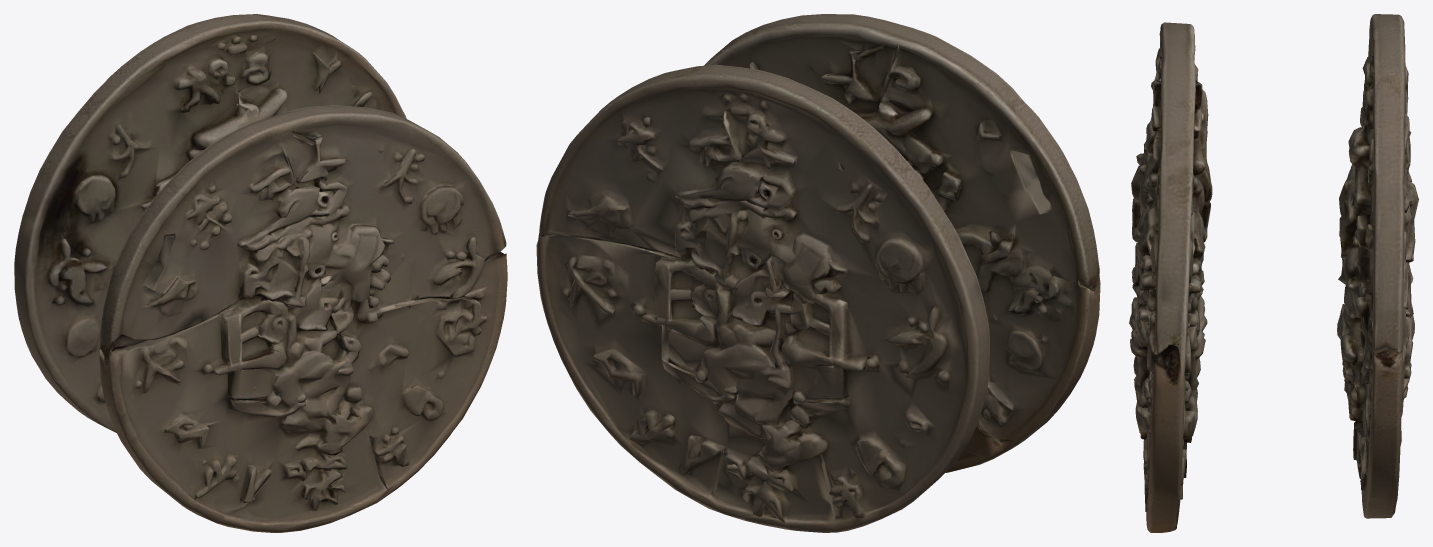
The model's file is silver-dollar.glb.
3 renders of one model, left to right at view 1: azimuth 30°, elevation 25°; view 2: azimuth 150°, elevation 25°; view 3: azimuth 270°, elevation 25°, orthographic. The views are drawn at different scales.
Visible parts, largest first — view 1: tripo_node_ff9530c6-b0e0-4ae7-949b-61e2594e66e7; view 2: tripo_node_ff9530c6-b0e0-4ae7-949b-61e2594e66e7; view 3: tripo_node_ff9530c6-b0e0-4ae7-949b-61e2594e66e7.
Part boxes in pixels (x1,y1,x2,y2): tripo_node_ff9530c6-b0e0-4ae7-949b-61e2594e66e7: [14, 14, 507, 532]; tripo_node_ff9530c6-b0e0-4ae7-949b-61e2594e66e7: [536, 14, 1100, 532]; tripo_node_ff9530c6-b0e0-4ae7-949b-61e2594e66e7: [1129, 14, 1418, 532].
Bounding box in the file's own units: 0.9976 × 1 × 0.5496.
Materials: 1 (1 with a texture image).
